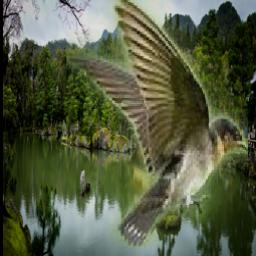Swallow: (67, 0, 249, 248)
